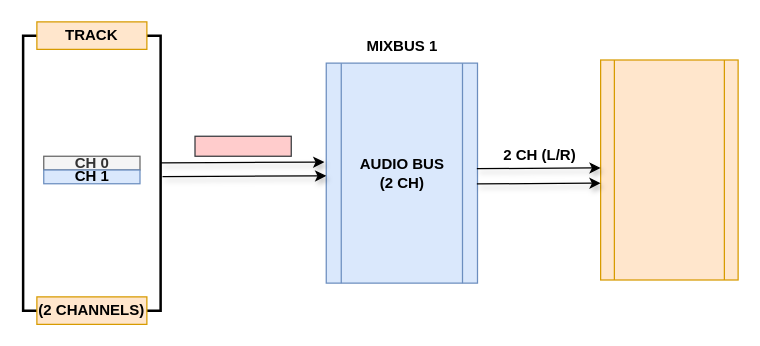
Image size: 760x346. Some labels were removed from this diagram. Here are the shapes that lost their labels. From the top down, the centre of each, then its label:
the point at 242,145: AUX SEND 1
the point at 668,169: MASTER BUS
